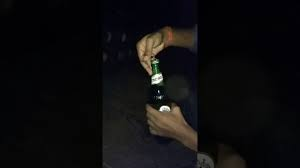beer: (148, 59, 176, 143)
